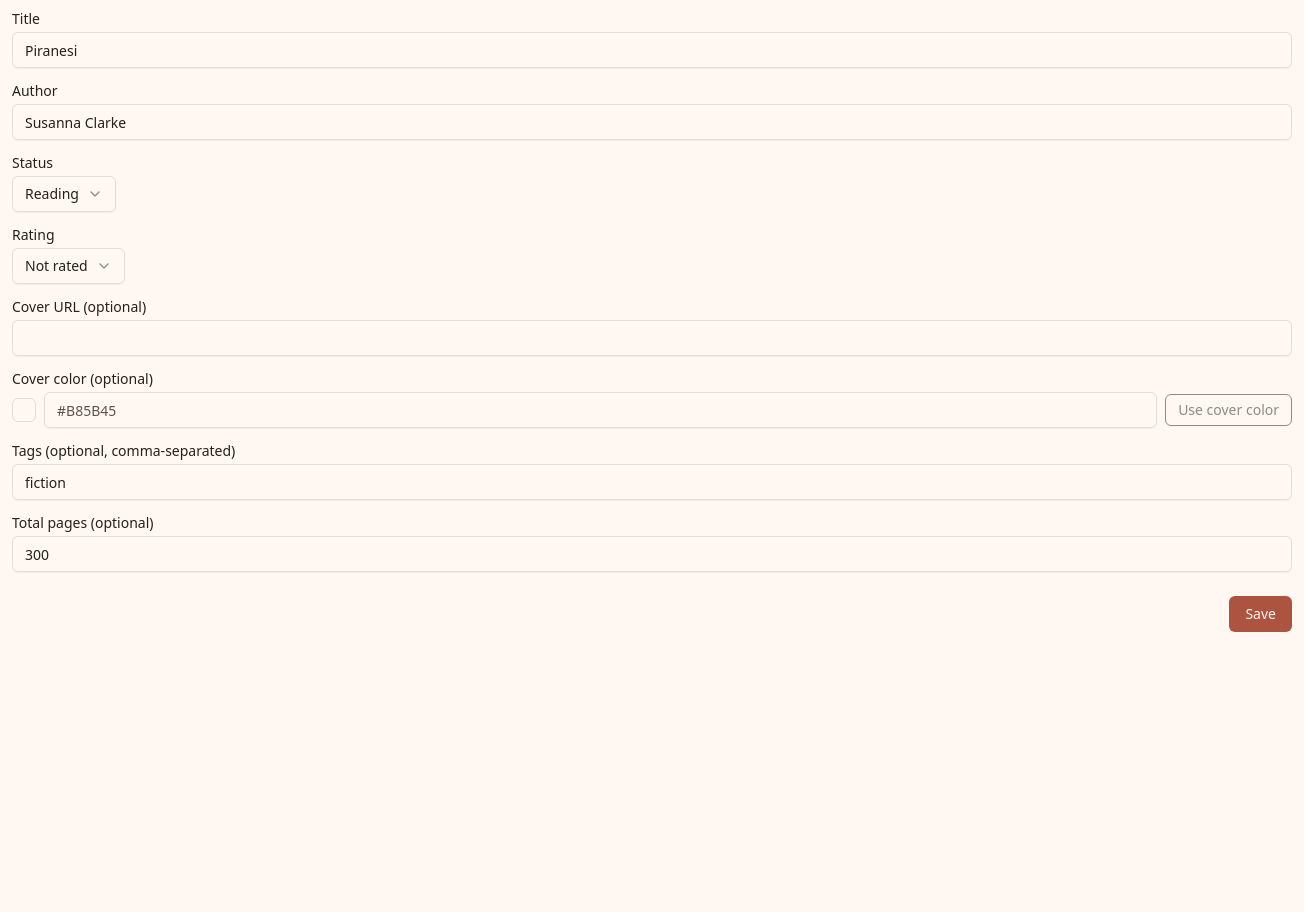
Test case: BookForm › total pages field (spec 015) › shows a totalPages error when it is lower than existing currentPage
Replace the text in the number field labelled "Total pages (optional)" with "100" at (652, 554), box [12,536,1292,572]
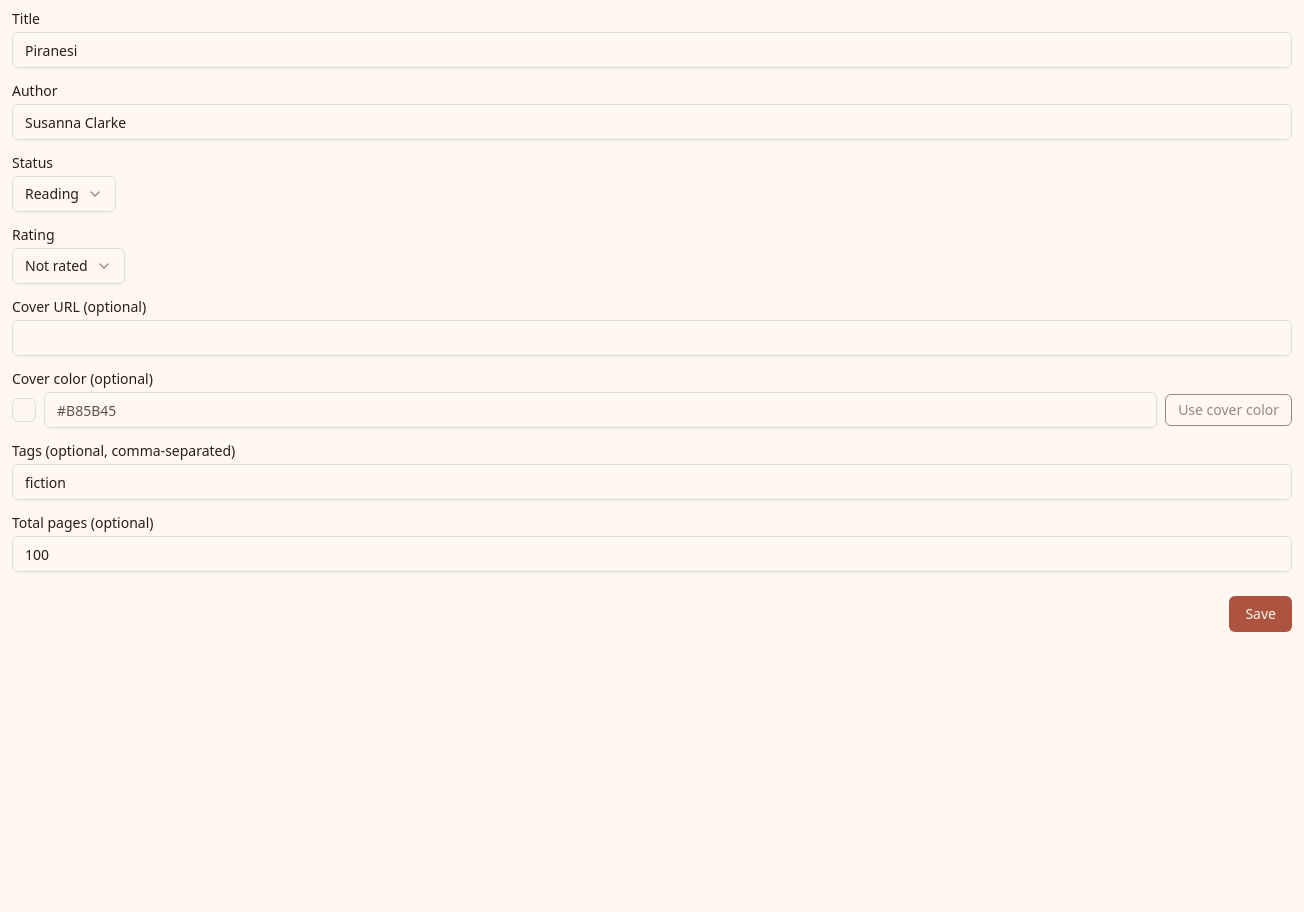
Click the button "Save" at (1261, 614), box [1229,596,1292,632]
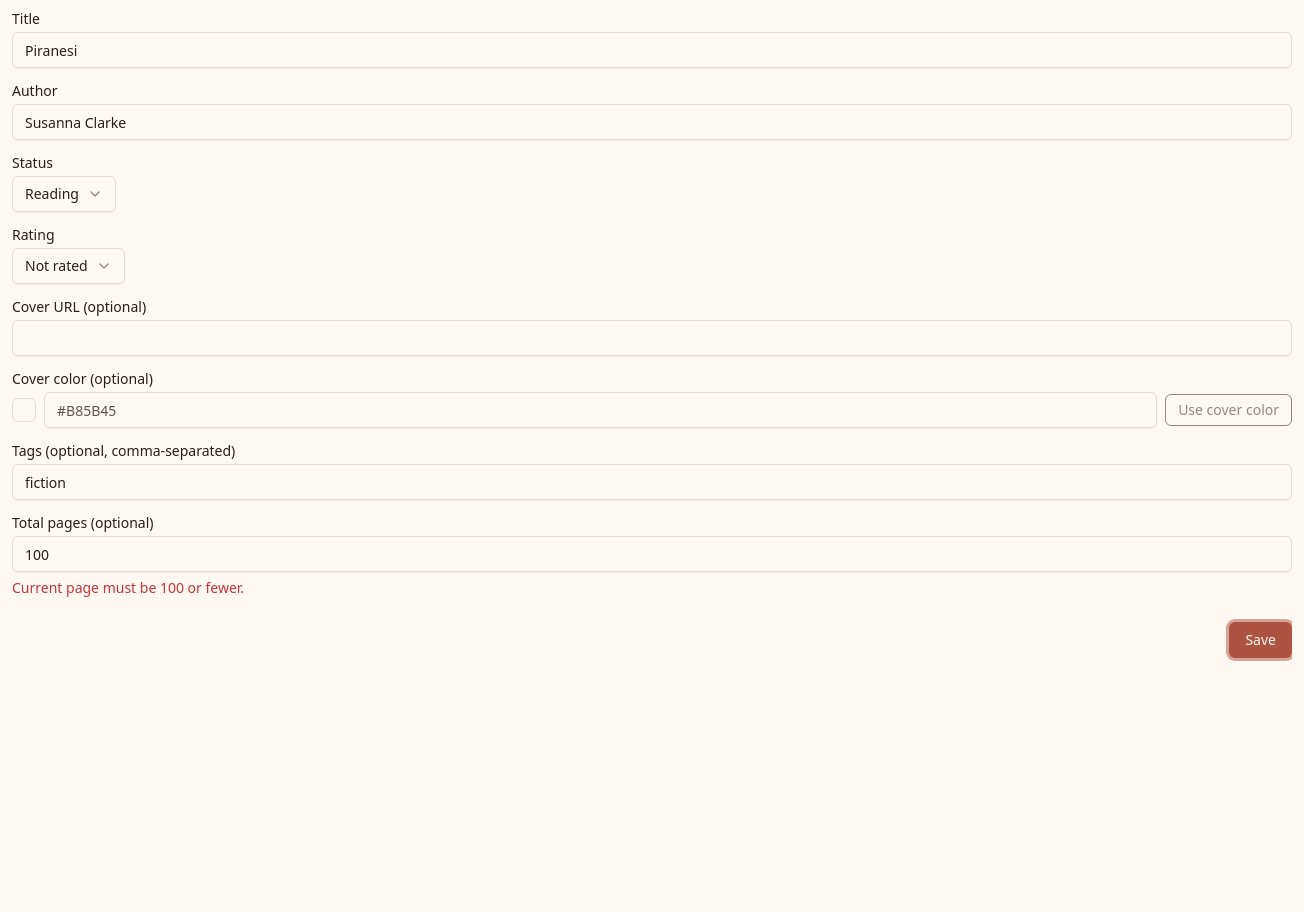
Expected: the text "Current page must be 100 or fewer." is shown, [12,578,244,597]
